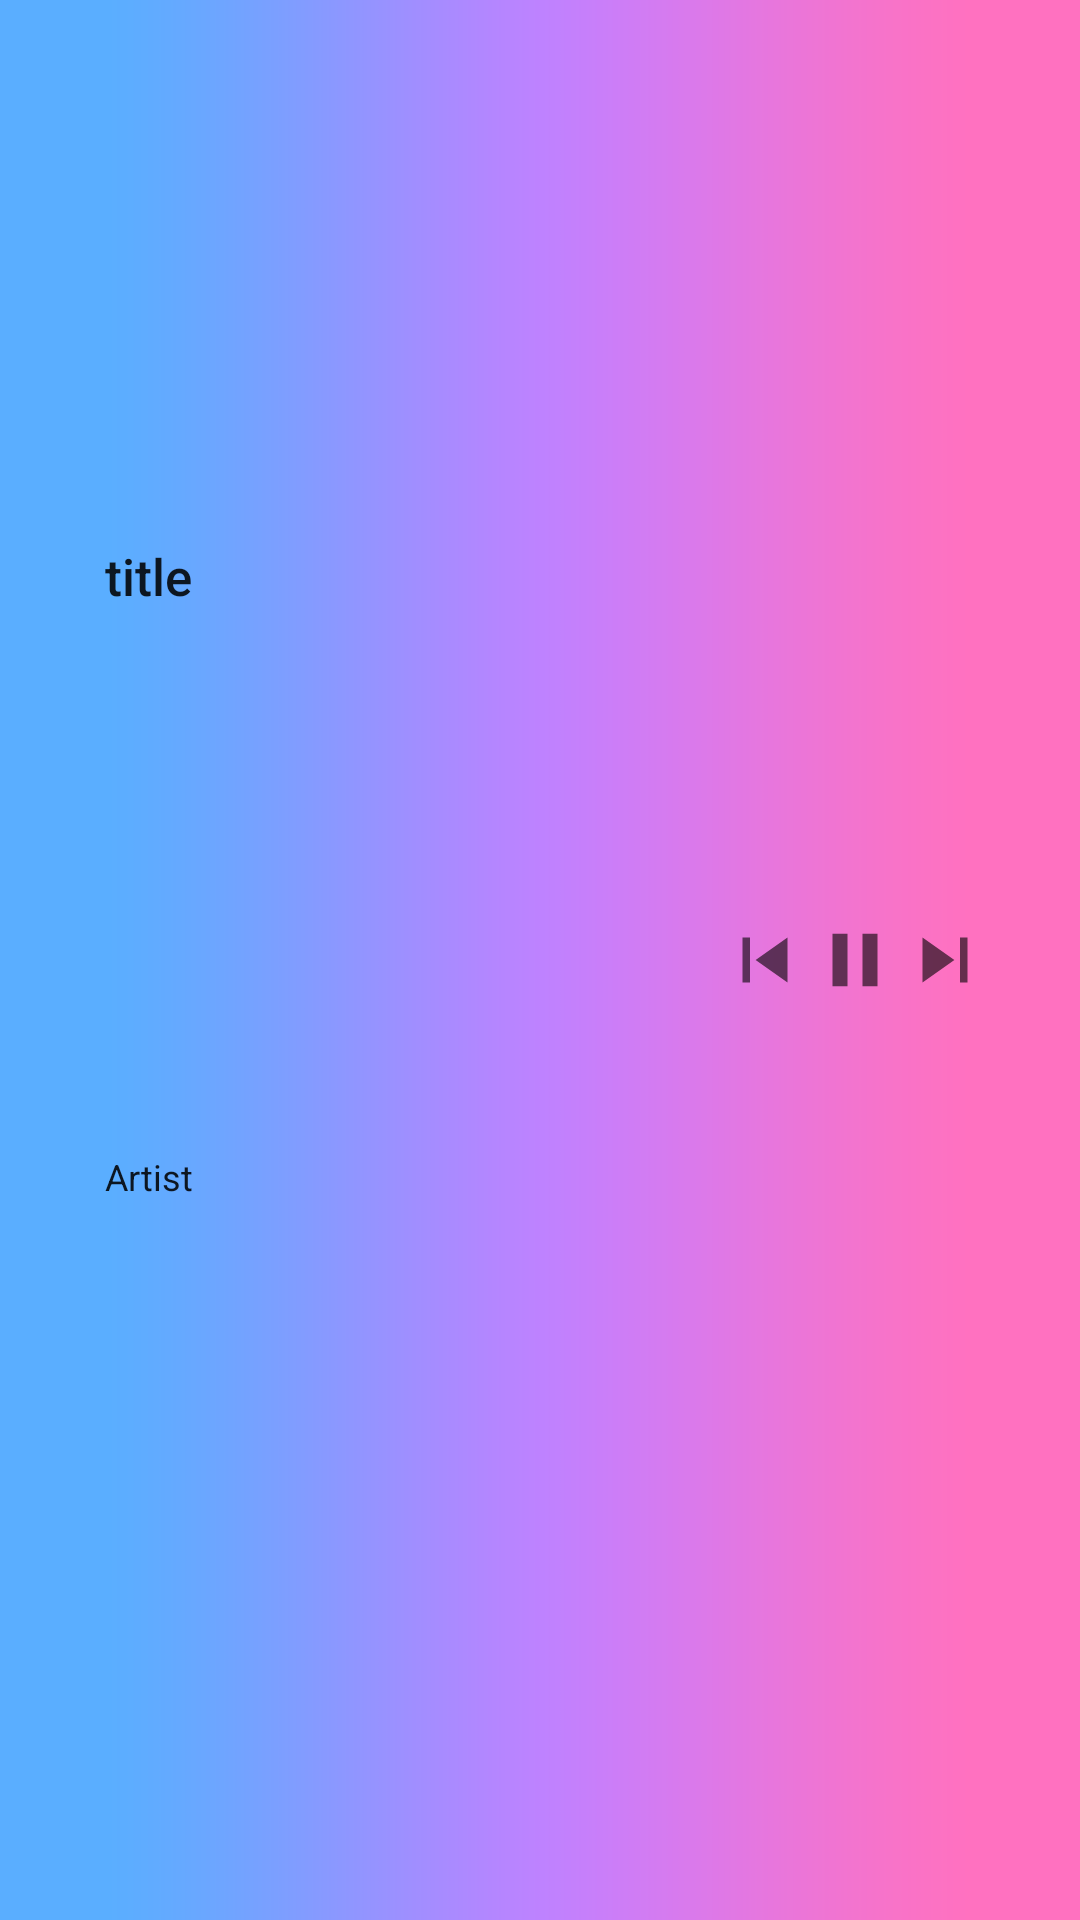

Screen size 1080px x 1920px. Icon name, then its center in pixels as [x,y]:
next: [945,960]
pause: [855,960]
previous: [765,960]
